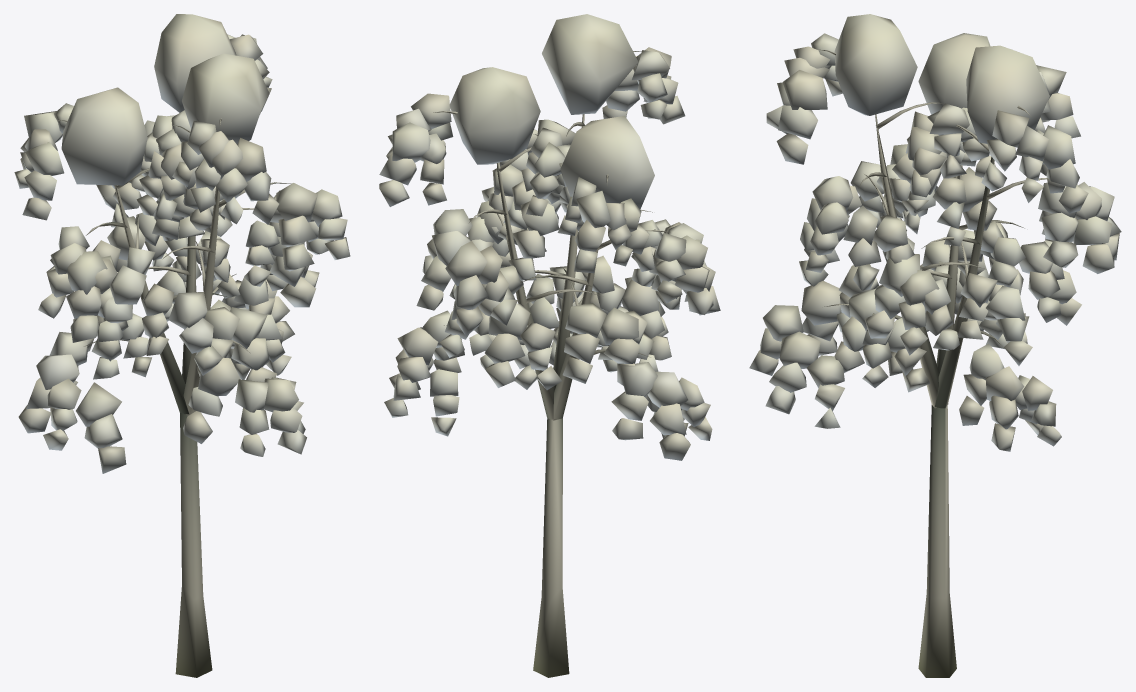
3 views of the same model, side by side, from view 1: azimuth 30°, elevation 25°; view 2: azimuth 150°, elevation 25°; view 3: azimuth 270°, elevation 25° (orthographic). The views are drawn at different scales.
Visible parts, largest first — view 1: crown, trunk; view 2: crown, trunk; view 3: crown, trunk.
Boxes of the visible parts, x1,y1,x2,y2 form: crown: (14, 14, 350, 473); trunk: (57, 118, 291, 677); crown: (379, 14, 720, 460); trunk: (433, 51, 670, 677); crown: (749, 14, 1121, 451); trunk: (818, 49, 1047, 677).
Size of the model in its own units: 6.96 by 14.69 by 7.56.
